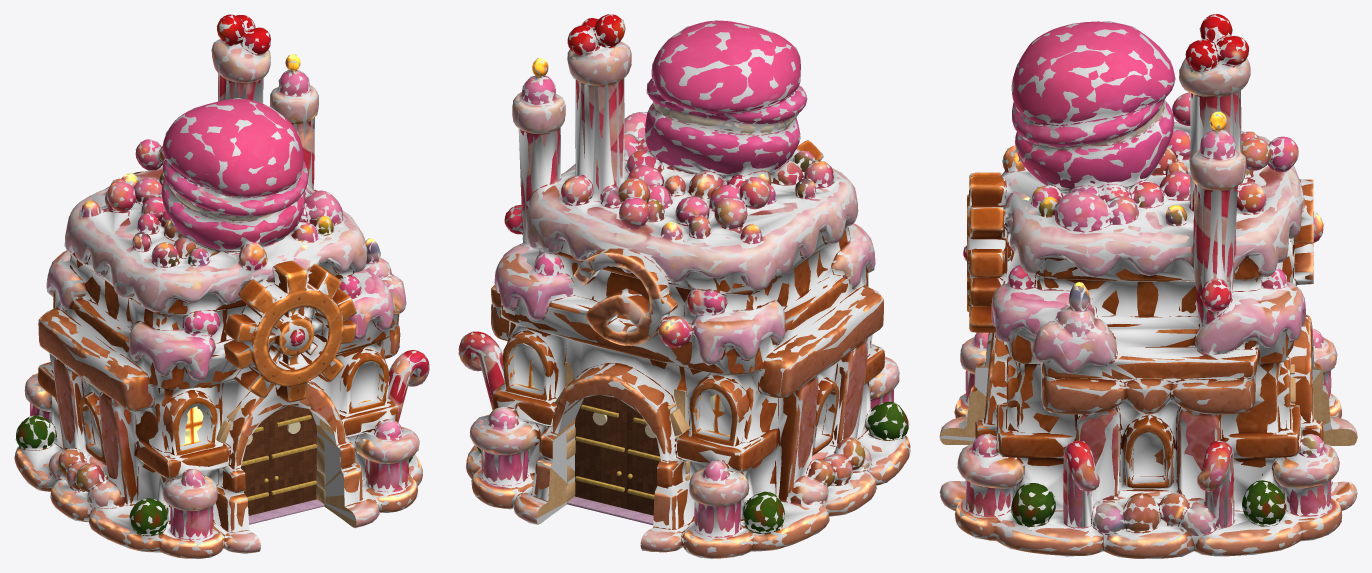
Rendered from GIN_BLD_CandyCogCottage.fbx.
3 views of the same model, side by side, from view 1: azimuth 30°, elevation 25°; view 2: azimuth 150°, elevation 25°; view 3: azimuth 270°, elevation 25° (orthographic). The views are drawn at different scales.
Visible parts, largest first — view 1: GIN_BLD_CandyCogCottage, COL_GIN_BLD_CandyCogCottage_Shell, GIN_BLD_CandyCogCottage_Door_FR, GIN_BLD_CandyCogCottage_Door_FL, GIN_BLD_CandyCogCottage_Frame; view 2: GIN_BLD_CandyCogCottage, COL_GIN_BLD_CandyCogCottage_Shell, GIN_BLD_CandyCogCottage_Door_BL, GIN_BLD_CandyCogCottage_Door_BR, GIN_BLD_CandyCogCottage_Frame; view 3: GIN_BLD_CandyCogCottage, COL_GIN_BLD_CandyCogCottage_Shell.
Part boxes in pixels (left/top/right/bottom): GIN_BLD_CandyCogCottage: left=14, top=14, right=429, bottom=558; COL_GIN_BLD_CandyCogCottage_Shell: left=14, top=14, right=429, bottom=558; GIN_BLD_CandyCogCottage_Door_FR: left=264, top=406, right=316, bottom=510; GIN_BLD_CandyCogCottage_Door_FL: left=241, top=416, right=278, bottom=515; GIN_BLD_CandyCogCottage_Frame: left=216, top=405, right=325, bottom=524; GIN_BLD_CandyCogCottage: left=458, top=14, right=910, bottom=558; COL_GIN_BLD_CandyCogCottage_Shell: left=458, top=14, right=910, bottom=558; GIN_BLD_CandyCogCottage_Door_BL: left=575, top=394, right=632, bottom=508; GIN_BLD_CandyCogCottage_Door_BR: left=616, top=405, right=660, bottom=515; GIN_BLD_CandyCogCottage_Frame: left=555, top=379, right=690, bottom=525; GIN_BLD_CandyCogCottage: left=939, top=14, right=1357, bottom=558; COL_GIN_BLD_CandyCogCottage_Shell: left=939, top=14, right=1356, bottom=558.
Size of the model in its own units: 23.56 by 28.04 by 22.07.
